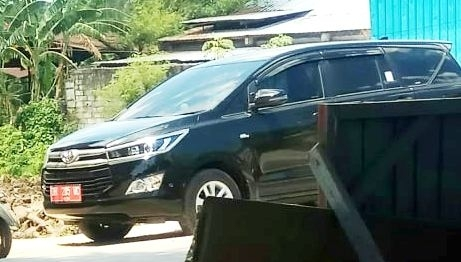plate: (50, 185, 81, 202)
